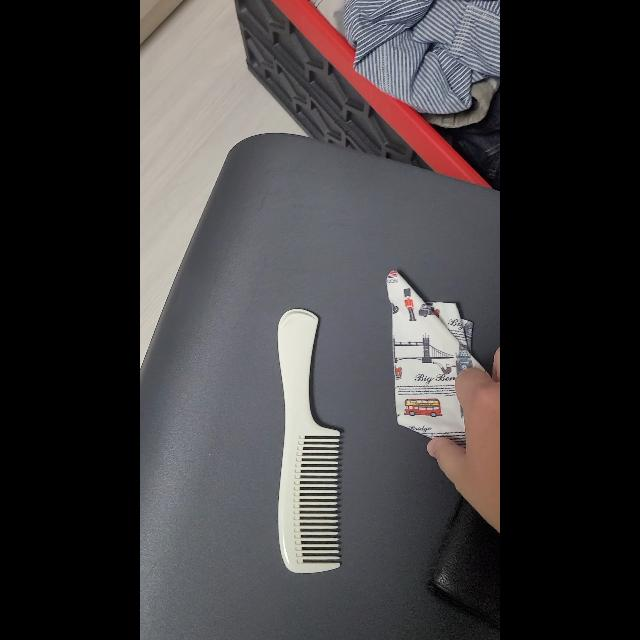COMB: (276, 308, 340, 572)
Glasses cleaning cloth: (386, 270, 486, 450)
WALLET: (426, 496, 500, 632)
